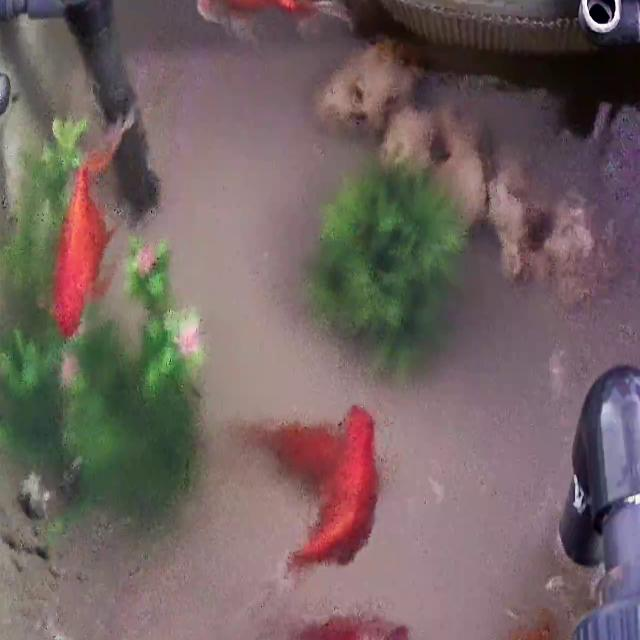fish: (50, 124, 129, 332), (298, 388, 375, 564), (246, 415, 338, 488), (184, 0, 334, 40), (291, 614, 403, 640), (460, 618, 550, 640)
